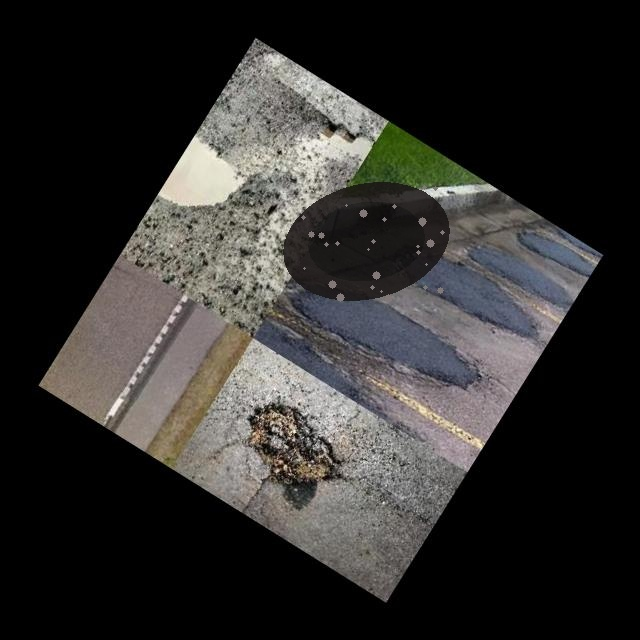pothole: (277, 179, 455, 303)
